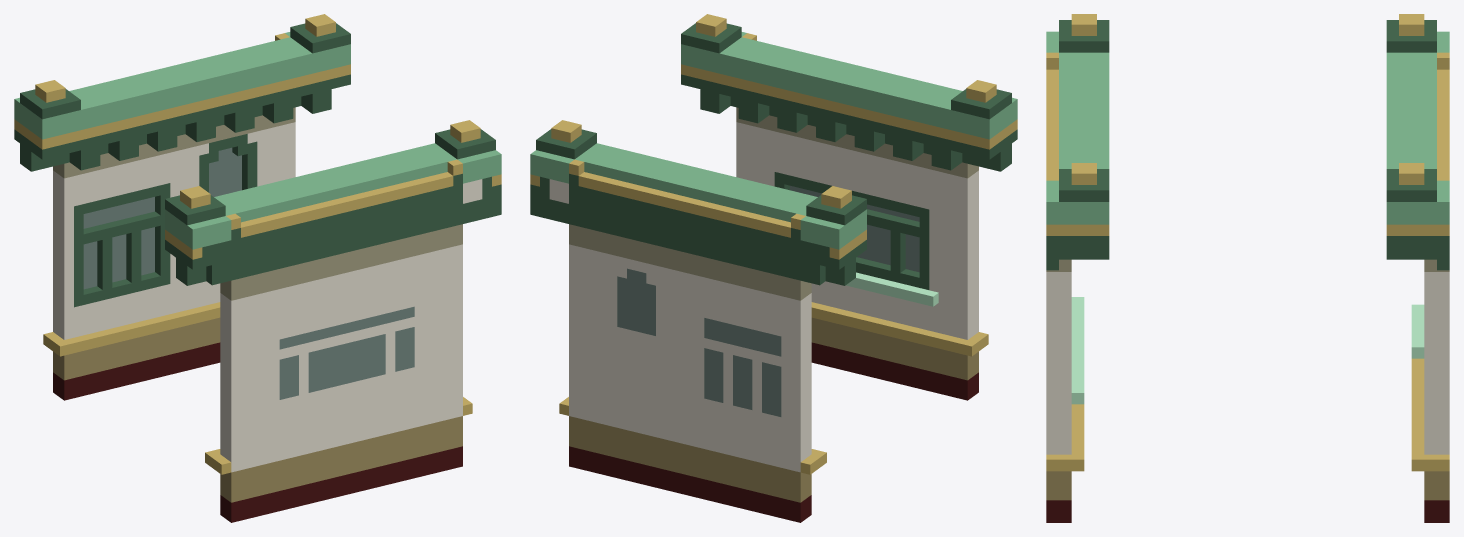
The model's file is tile_4_middle_90.obj.
3 renders of one model, left to right at view 1: azimuth 30°, elevation 25°; view 2: azimuth 150°, elevation 25°; view 3: azimuth 270°, elevation 25°, orthographic. The views are drawn at different scales.
Bounding box in the file's own units: 3.2 × 3.2 × 3.2.
1 material, 1 textured.
